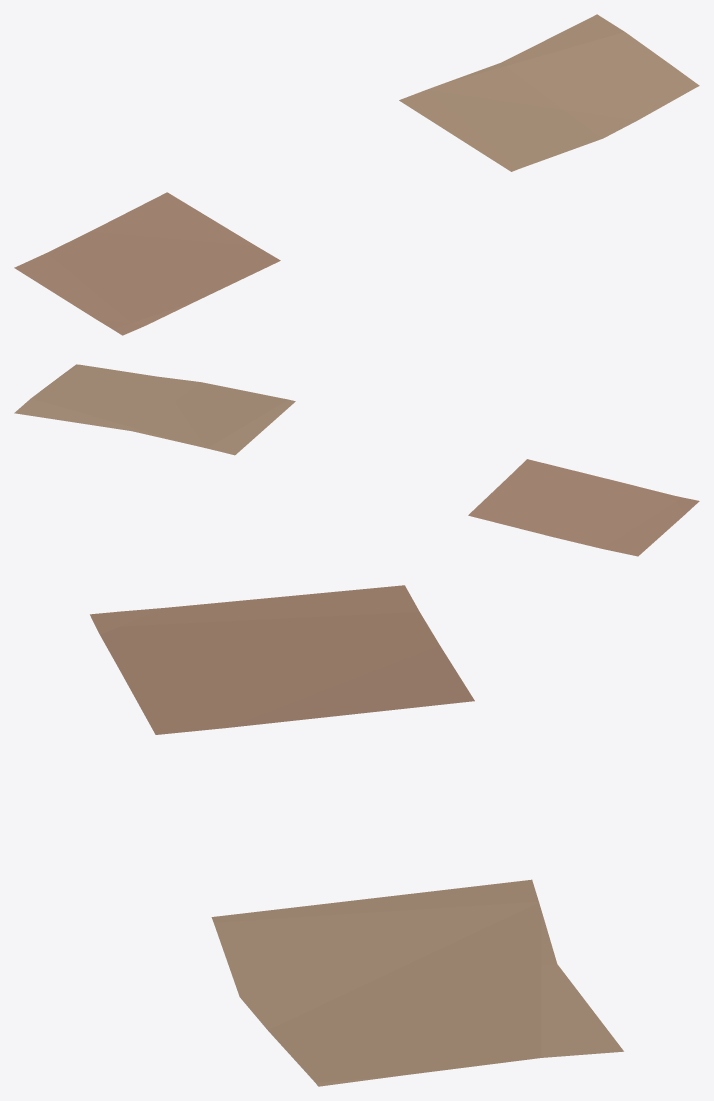
Rendered from farm_26_19_soil.glb.
3 views of the same model, one above another, from view 1: azimuth 30°, elevation 25°; view 2: azimuth 150°, elevation 25°; view 3: azimuth 270°, elevation 25° (orthographic). The views are drawn at different scales.
Parts seen in each view (by area): view 1: geometry_0; view 2: geometry_0; view 3: geometry_0.
Part boxes in pixels (x1,y1,x2,y2): geometry_0: (14,14,699,335); geometry_0: (14,364,699,556); geometry_0: (90,585,623,1086).
Size of the model in its own units: 256 by 21.32 by 102.
